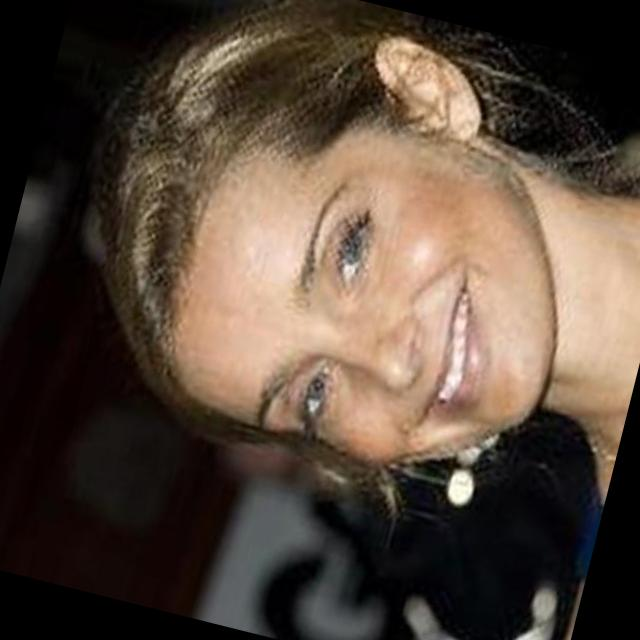bareface: (113, 0, 619, 522)
